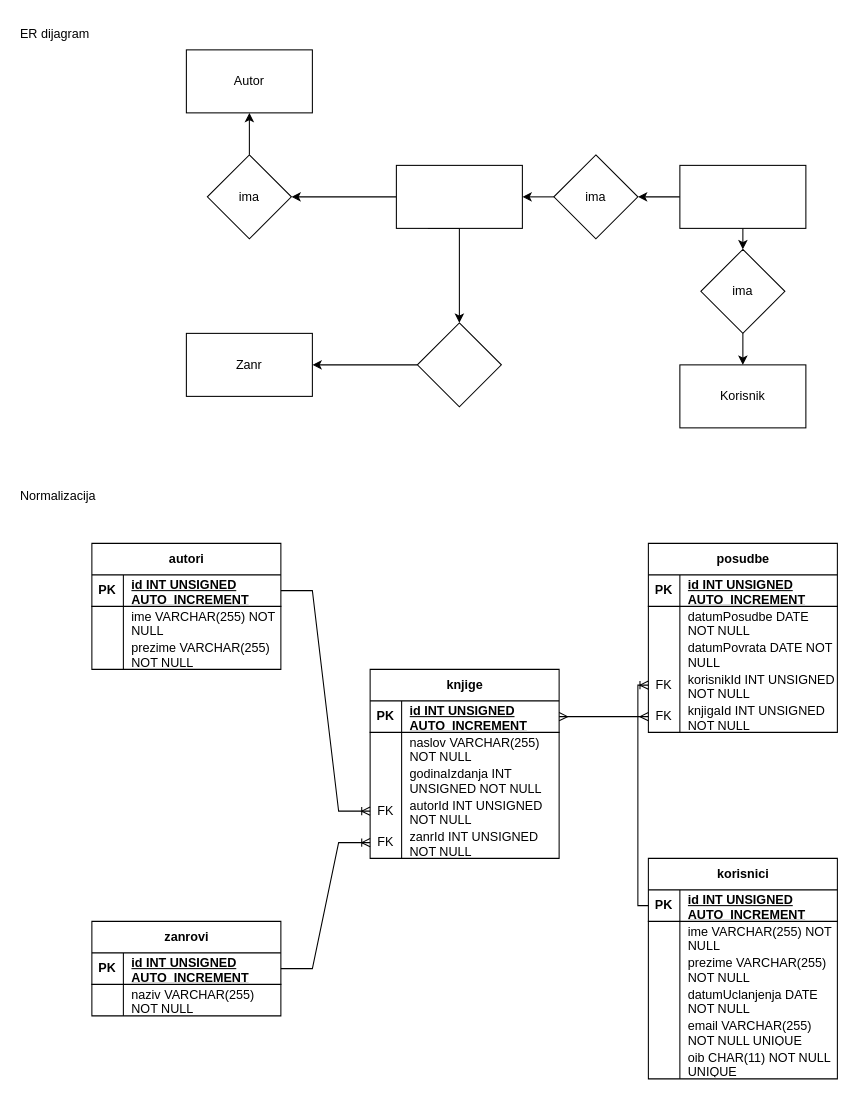
This 856x1097 diagram has some shape labels left out. The shapes that lost their labels are listed below. From the top down, each one's centre as x and y in pixels, then its label:
At pixel 458 196: "Knjiga".
At pixel 742 196: "Posudba".
At pixel 458 364: "pripada".
